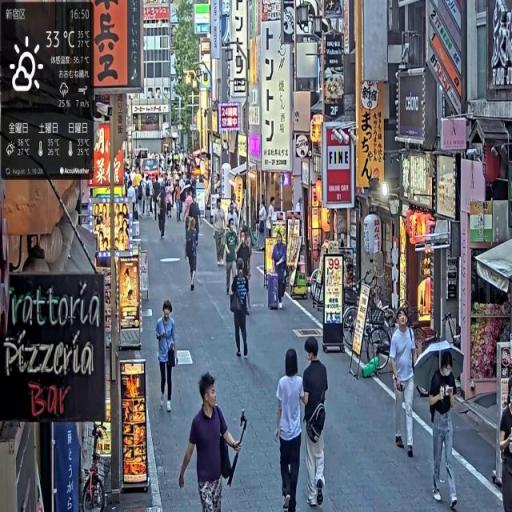person: (180, 371, 249, 512), (428, 350, 461, 512), (300, 335, 330, 512), (276, 348, 306, 510), (390, 307, 418, 458), (156, 300, 179, 417), (231, 263, 252, 363), (499, 388, 512, 512), (185, 201, 202, 294), (236, 228, 254, 311), (272, 230, 290, 311), (225, 219, 239, 300), (213, 198, 228, 267)
